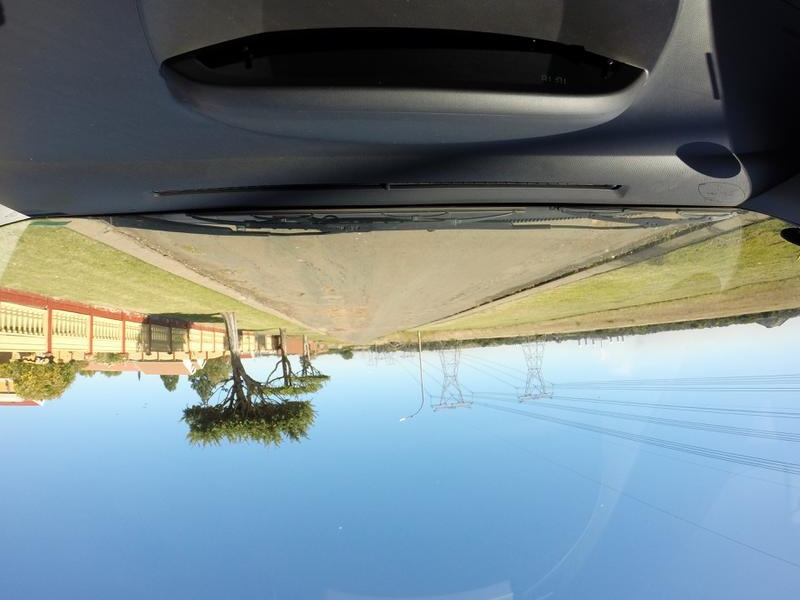pothole: (317, 307, 363, 317), (322, 288, 338, 299), (292, 291, 306, 296)
